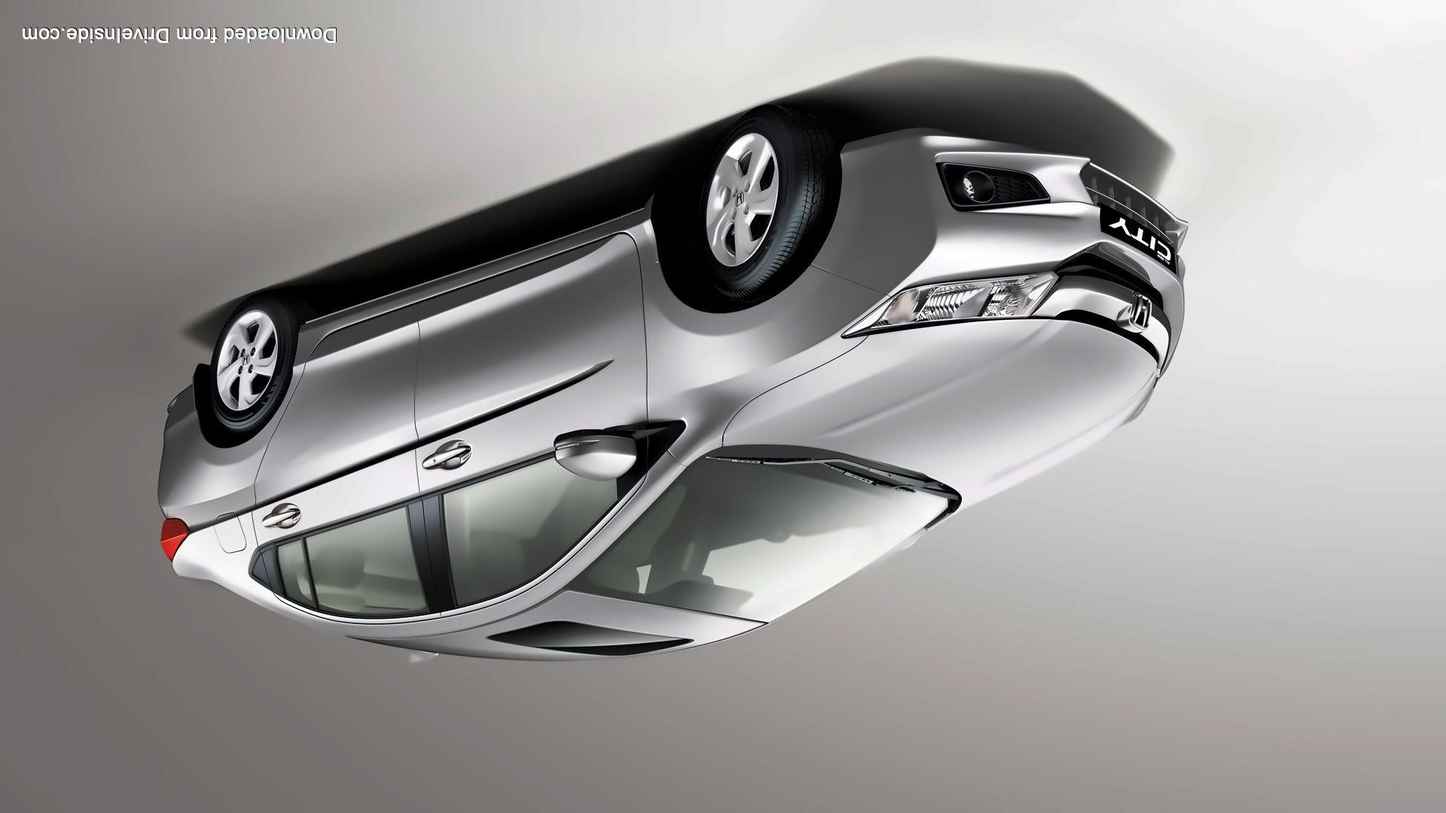Car hood: (725, 315, 1160, 513)
Fender - -F-L-: (637, 185, 898, 467)
Fender - -R-L-: (157, 306, 327, 505)
Headlight - -L-: (832, 264, 1062, 345)
Passenger-s door - -F-L-: (411, 222, 667, 635)
Passenger-s door - -R-L-: (247, 280, 436, 641)
Rear bumper: (815, 125, 1202, 304), (140, 381, 243, 464)
Rear light - -L-: (140, 502, 202, 568)
Side bumper - -L-: (286, 200, 655, 356)
Side mirror - -L-: (535, 417, 655, 497)
